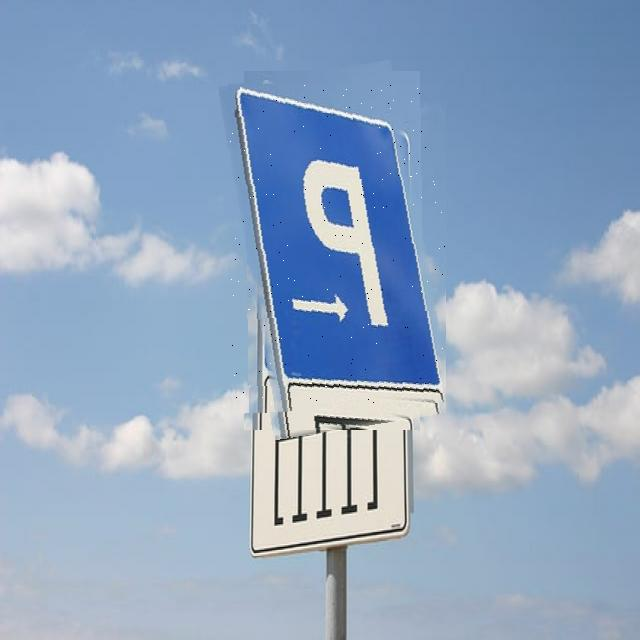parking: (229, 85, 446, 405)
